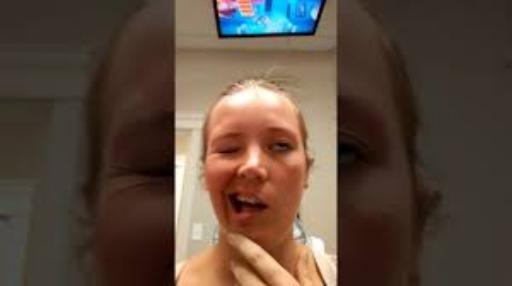left_eye: (270, 143, 295, 154)
left_lip_corner: (260, 201, 272, 213)
right_eye: (215, 147, 243, 157)
right_lip_corner: (224, 192, 234, 200)
